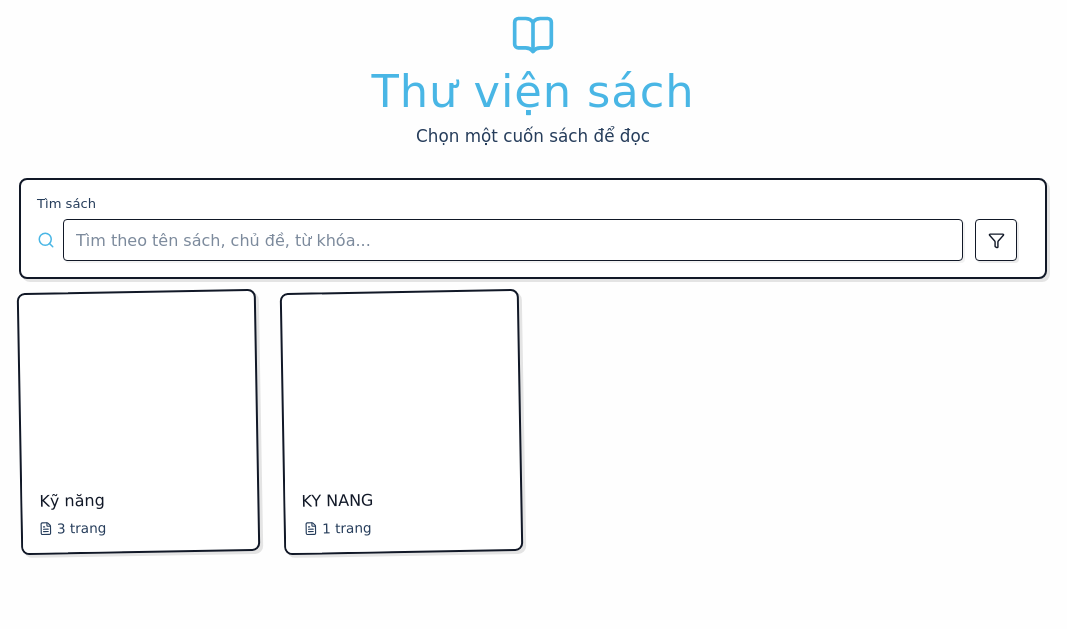
Test case: BookListPage › deduplicates normalized equivalent suggestion values
In the search field labelled "Tìm sách": coordinates (513, 240) [63,219,963,261], type "ky nang"
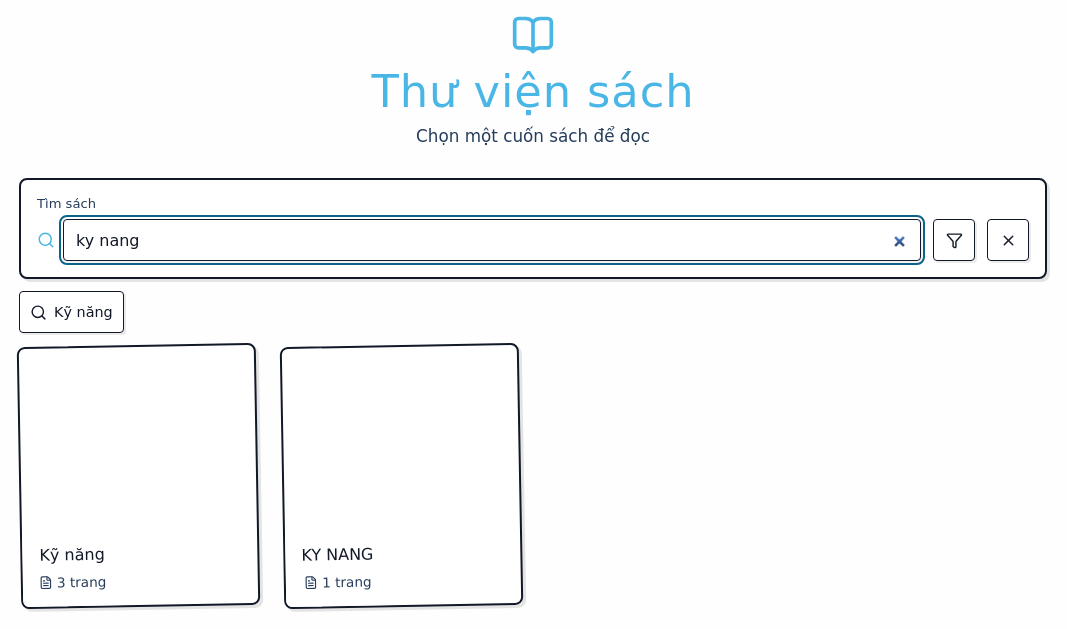
Expected: the number of buttons "Kỹ năng" is 1, [19,291,124,333]
